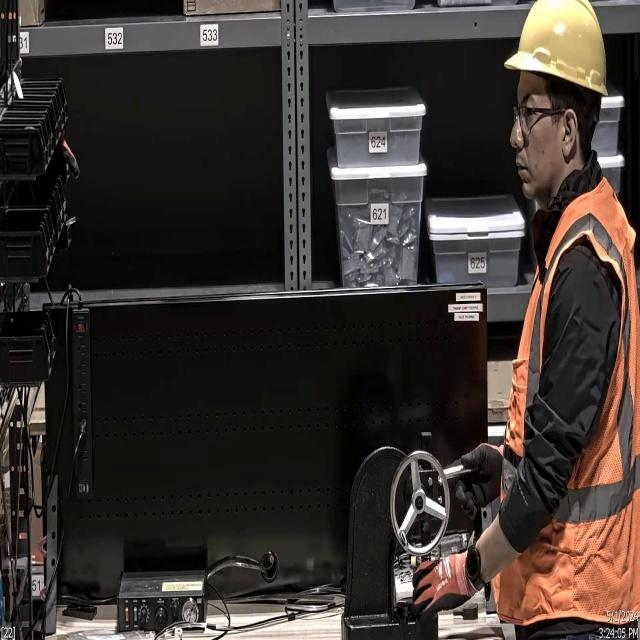construction-gloves: (406, 550, 474, 630), (451, 446, 506, 520)
